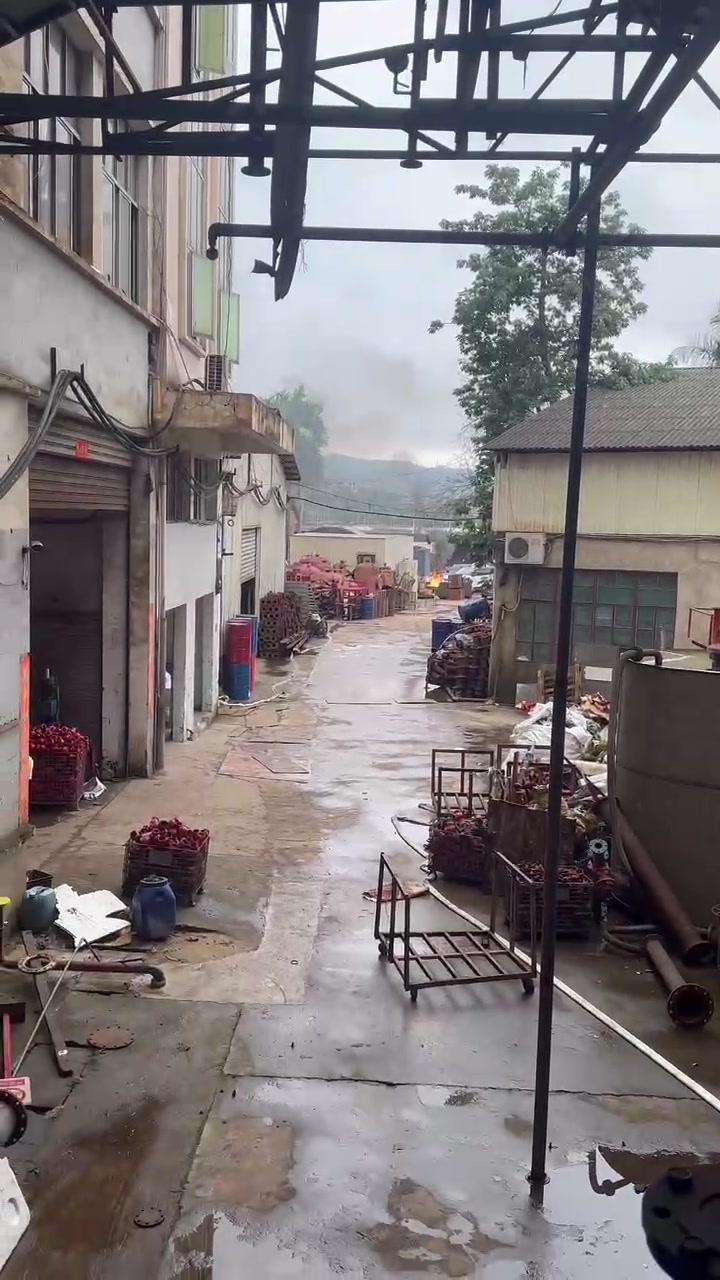fire: (426, 573, 441, 586)
